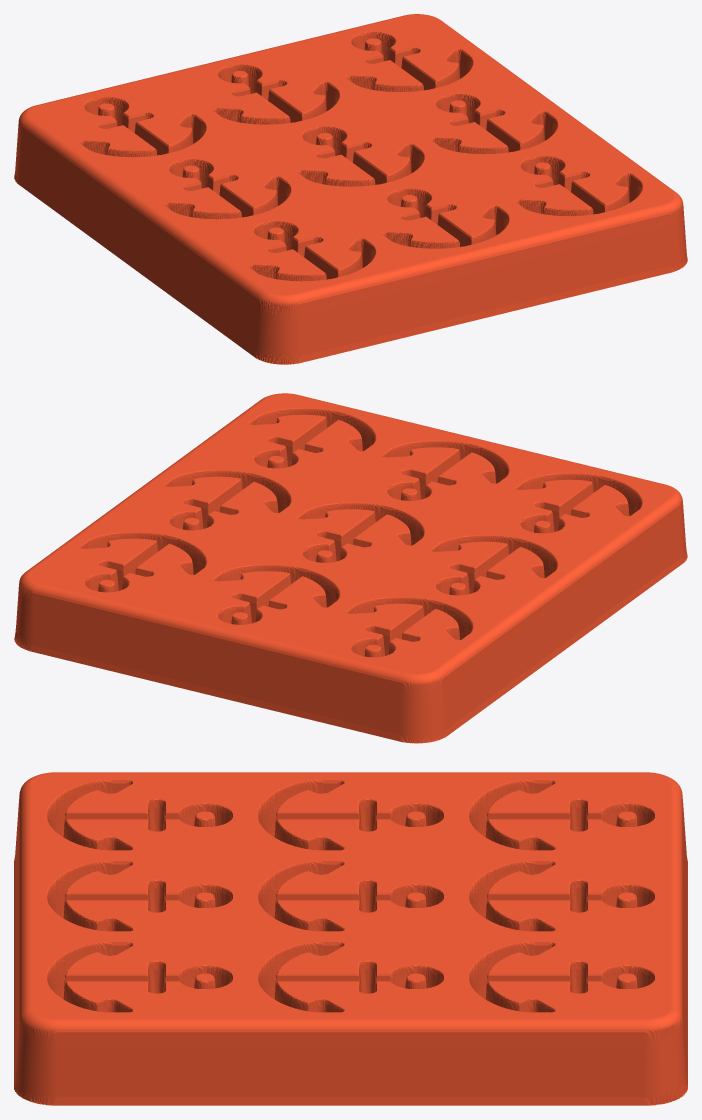
Rendered from mold.glb.
3 views of the same model, one above another, from view 1: azimuth 30°, elevation 25°; view 2: azimuth 150°, elevation 25°; view 3: azimuth 270°, elevation 25° (orthographic). The views are drawn at different scales.
Visible parts, largest first — view 1: geometry_0; view 2: geometry_0; view 3: geometry_0.
Boxes of the visible parts, box(x1,y1,x2,y2) form: geometry_0: box(14, 14, 687, 364); geometry_0: box(14, 393, 687, 743); geometry_0: box(14, 772, 687, 1105).
Size of the model in its own units: 0.1281 by 0.0182 by 0.1402.
